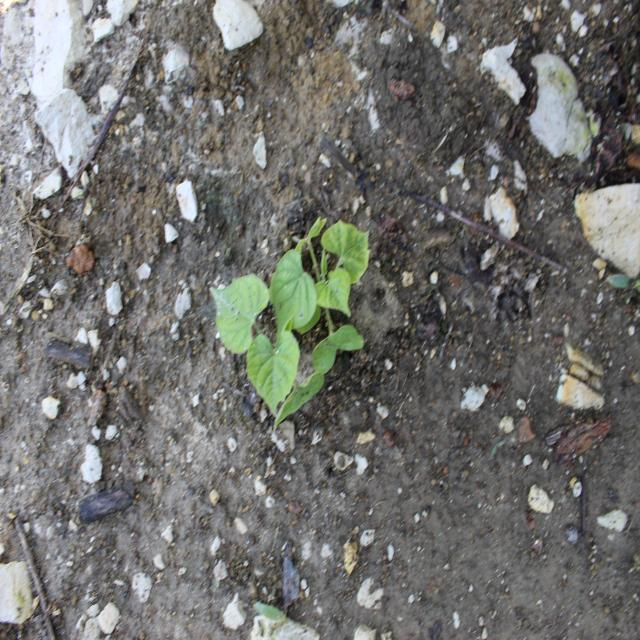MorningGlory: (207, 214, 373, 434)
